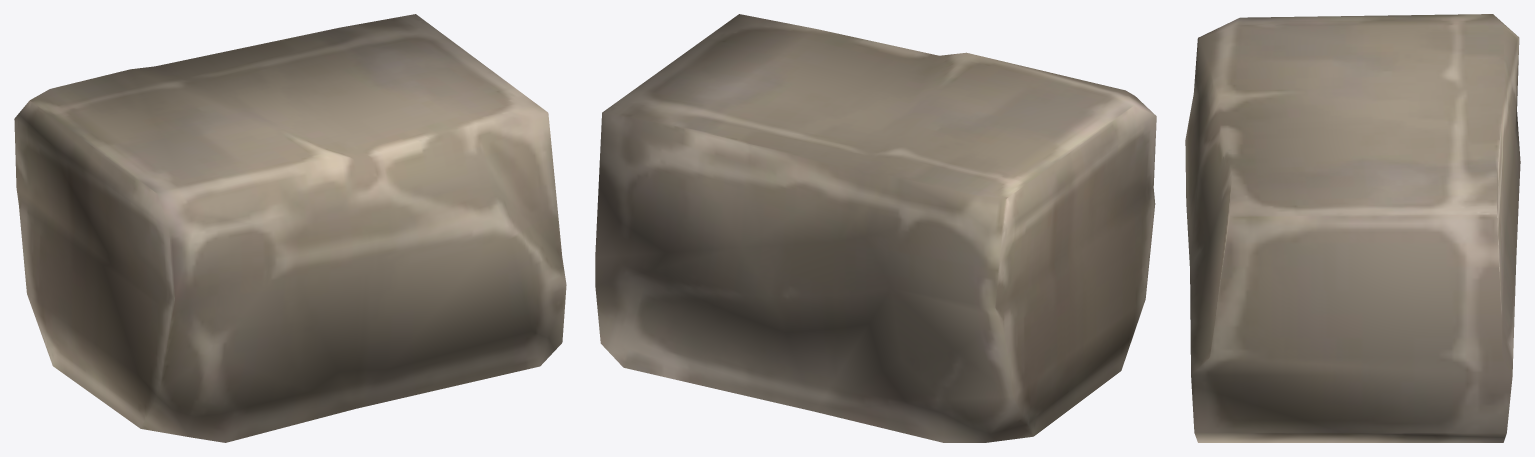
The model's file is Prop_Brick1.gltf.
3 views of the same model, side by side, from view 1: azimuth 30°, elevation 25°; view 2: azimuth 150°, elevation 25°; view 3: azimuth 270°, elevation 25° (orthographic). The views are drawn at different scales.
Visible parts, largest first — view 1: Prop_Brick1; view 2: Prop_Brick1; view 3: Prop_Brick1.
Part boxes in pixels (x1,y1,x2,y2): Prop_Brick1: [14, 14, 566, 442]; Prop_Brick1: [595, 14, 1156, 442]; Prop_Brick1: [1185, 14, 1520, 442].
Bounding box in the file's own units: 0.3456 × 0.208 × 0.2502.
Materials: 1 (1 with a texture image).
